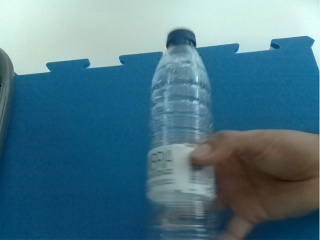botella plastico: (145, 28, 213, 240)
